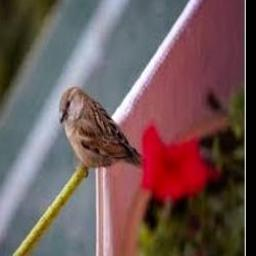Sparrow: (58, 86, 144, 178)
